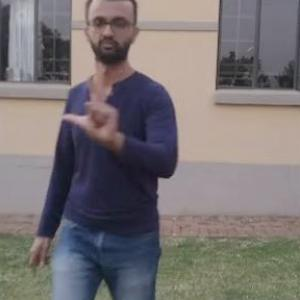land_hand: (60, 65, 130, 149)
